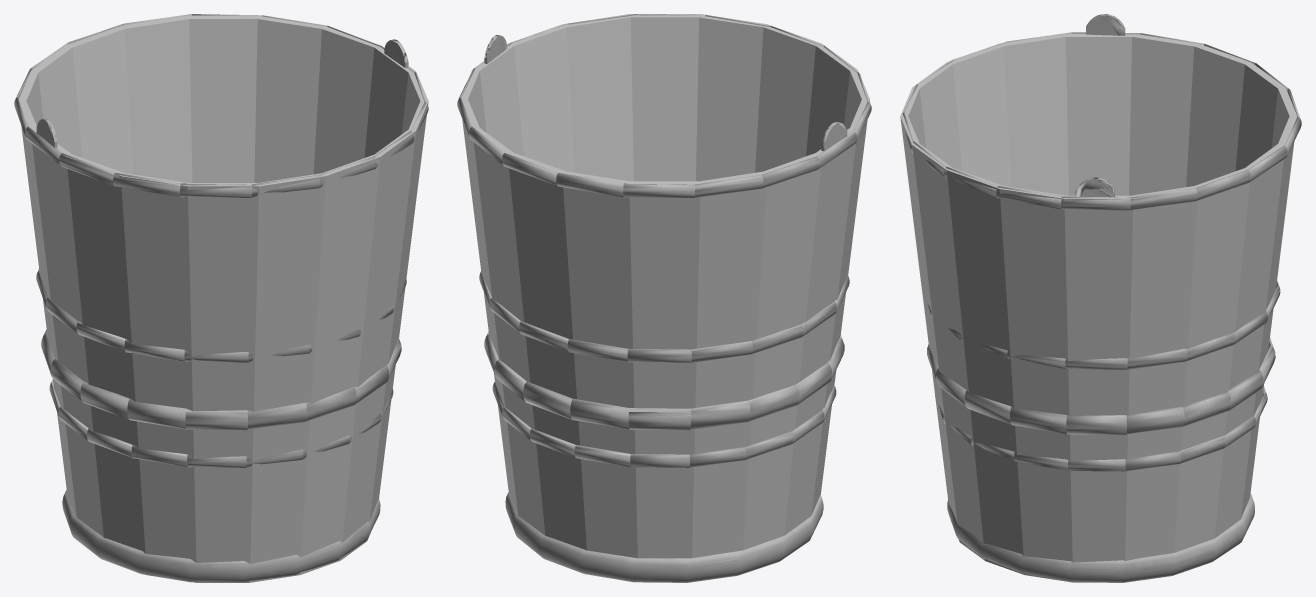
File: original-3.obj
3 renders of one model, left to right at view 1: azimuth 30°, elevation 25°; view 2: azimuth 150°, elevation 25°; view 3: azimuth 270°, elevation 25°, orthographic. The views are drawn at different scales.
Visible parts, largest first — view 1: Circle.011_Circle.149, Circle.010_Circle.148, Circle.012_Circle.150, Circle.007_Circle.145, Circle.013_Circle.151, Circle.002_Circle.140, Circle.008_Circle.146, Circle.001_Circle.139, Circle.003_Circle.141, Circle.014_Circle.152, Circle_Circle.138, Circle.004_Circle.142 (+24 smaller); view 2: Circle.017_Circle.155, Circle.016_Circle.154, Circle_Circle.138, Circle.001_Circle.139, Circle.015_Circle.153, Circle.008_Circle.146, Circle.007_Circle.145, Circle.009_Circle.147, Circle.002_Circle.140, Circle.014_Circle.152, #ID38.005_#ID38.007, Circle.010_Circle.148 (+30 smaller); view 3: Circle.005_Circle.143, Circle.006_Circle.144, Circle.004_Circle.142, Circle.009_Circle.147, Circle.003_Circle.141, Circle.008_Circle.146, Circle.014_Circle.152, Circle.015_Circle.153, Circle.013_Circle.151, Circle.002_Circle.140, Circle.016_Circle.154, Circle.012_Circle.150 (+27 smaller).
Part boxes in pixels (left/top/right/bottom): Circle.011_Circle.149: left=187, top=183, right=258, bottom=582; Circle.010_Circle.148: left=250, top=173, right=325, bottom=582; Circle.012_Circle.150: left=121, top=173, right=196, bottom=582; Circle.007_Circle.145: left=300, top=154, right=380, bottom=574; Circle.013_Circle.151: left=66, top=154, right=146, bottom=574; Circle.002_Circle.140: left=188, top=15, right=258, bottom=182; Circle.008_Circle.146: left=340, top=129, right=416, bottom=560; Circle.001_Circle.139: left=121, top=16, right=192, bottom=182; Circle.003_Circle.141: left=254, top=16, right=324, bottom=182; Circle.014_Circle.152: left=32, top=130, right=103, bottom=537; Circle_Circle.138: left=66, top=26, right=133, bottom=174; Circle.004_Circle.142: left=313, top=26, right=377, bottom=174; Circle.017_Circle.155: left=629, top=181, right=700, bottom=558; Circle.016_Circle.154: left=692, top=171, right=766, bottom=558; Circle_Circle.138: left=563, top=171, right=637, bottom=558; Circle.001_Circle.139: left=509, top=153, right=586, bottom=550; Circle.015_Circle.153: left=743, top=153, right=820, bottom=550; Circle.008_Circle.146: left=629, top=14, right=700, bottom=181; Circle.007_Circle.145: left=696, top=14, right=766, bottom=181; Circle.009_Circle.147: left=563, top=14, right=633, bottom=181; Circle.002_Circle.140: left=472, top=128, right=545, bottom=535; Circle.014_Circle.152: left=784, top=128, right=857, bottom=535; #ID38.005_#ID38.007: left=505, top=492, right=823, bottom=582; Circle.010_Circle.148: left=755, top=24, right=821, bottom=172; Circle.005_Circle.143: left=1064, top=195, right=1133, bottom=582; Circle.006_Circle.144: left=999, top=186, right=1073, bottom=582; Circle.004_Circle.142: left=1125, top=186, right=1197, bottom=560; Circle.009_Circle.147: left=946, top=168, right=1024, bottom=574; Circle.003_Circle.141: left=1174, top=168, right=1249, bottom=552; Circle.008_Circle.146: left=912, top=144, right=985, bottom=560; Circle.014_Circle.152: left=1065, top=33, right=1132, bottom=195; Circle.015_Circle.153: left=1129, top=34, right=1197, bottom=195; Circle.013_Circle.151: left=1000, top=34, right=1068, bottom=195; Circle.002_Circle.140: left=1214, top=144, right=1284, bottom=538; Circle.016_Circle.154: left=1186, top=44, right=1250, bottom=186; Circle.012_Circle.150: left=947, top=43, right=1011, bottom=187.
Bounding box in the file's own units: 1.18 × 1.4 × 1.2.
